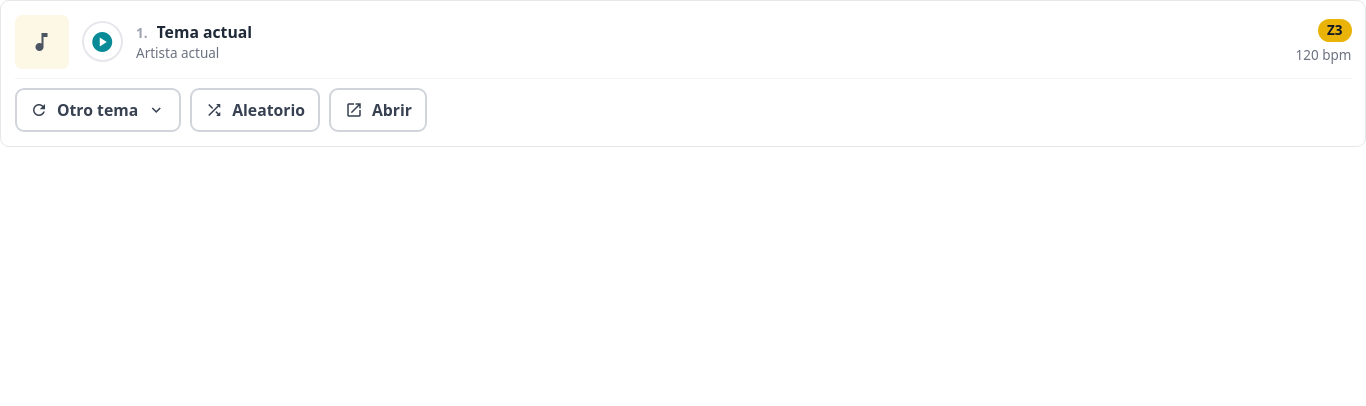
Test: PlaylistTrackRow > AlternativesPicker > buscador › filtra por título manteniendo el orden por score
Click the button with aria-label "Cambiar tema del tramo".
click(98, 110)  # box x1=14 y1=88 x2=181 y2=132
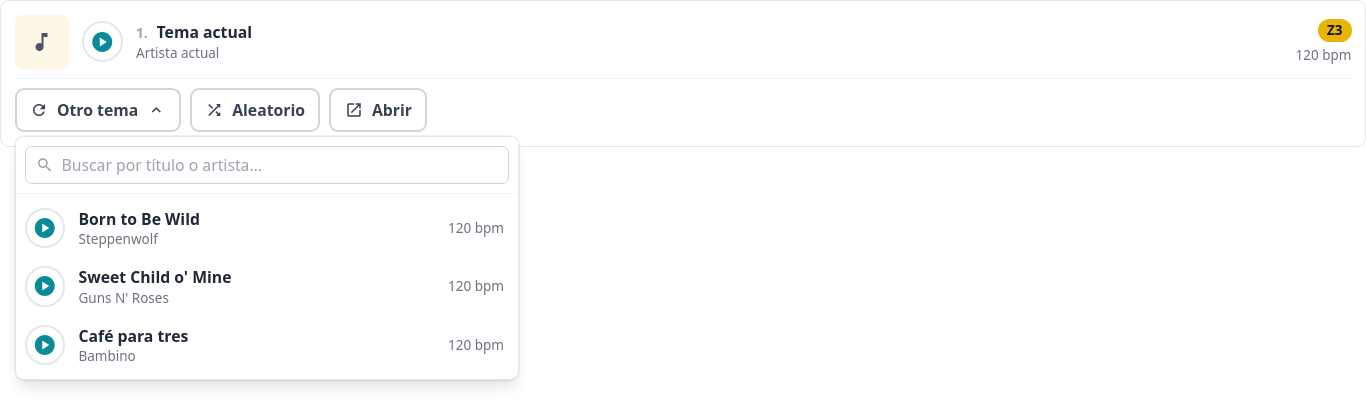
Type "born" into the search field with placeholder "Buscar por título o artista…".
click(266, 165); type("born")  # box x1=24 y1=146 x2=508 y2=184
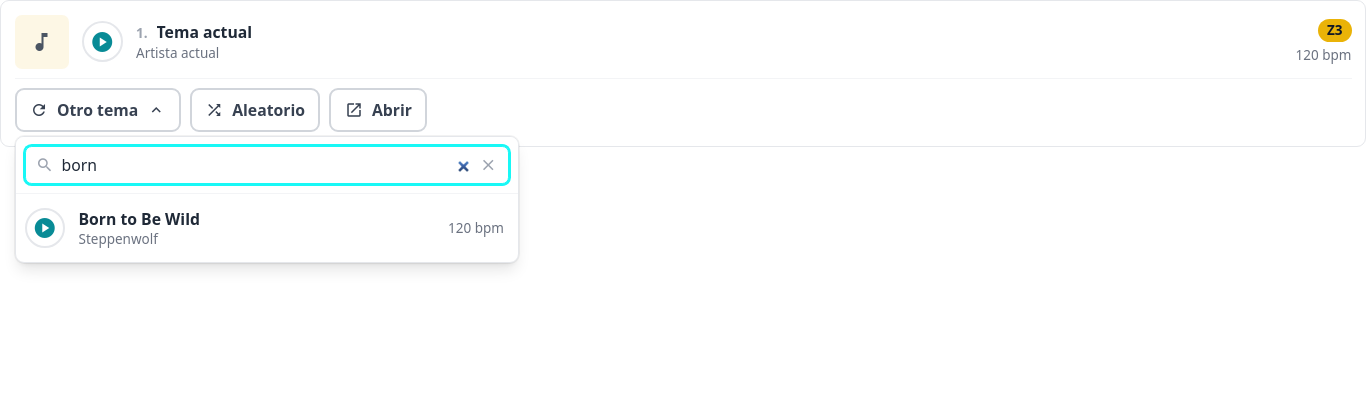
expect the option shows "Born to Be Wild": met, box x1=74 y1=198 x2=508 y2=257
expect the number of options is 1: met, box x1=74 y1=198 x2=508 y2=257
